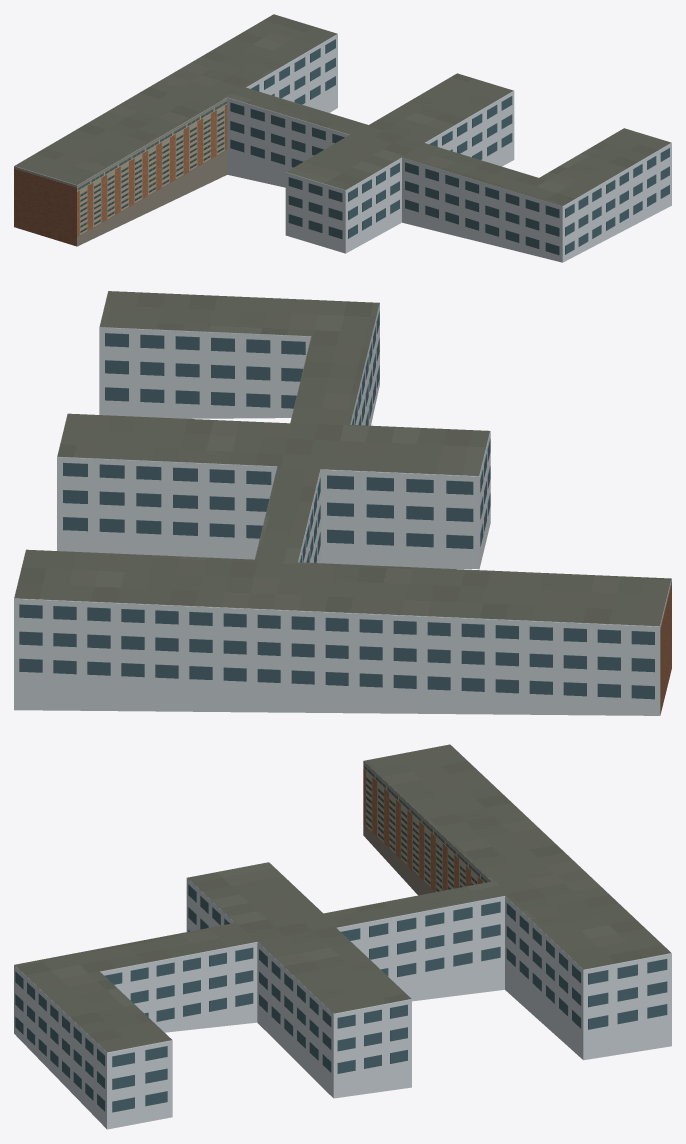
The model's file is intact.glb.
3 renders of one model, top to bottom at view 1: azimuth 30°, elevation 25°; view 2: azimuth 150°, elevation 25°; view 3: azimuth 270°, elevation 25°, orthographic. The views are drawn at different scales.
Parts seen in each view (by area): view 1: SM_cheom_Intact_00, SM_cheom_Intact_01; view 2: SM_cheom_Intact_00, SM_cheom_Intact_01; view 3: SM_cheom_Intact_00, SM_cheom_Intact_01.
Part boxes in pixels (x1,y1,x2,y2): SM_cheom_Intact_00: (14,14,671,262); SM_cheom_Intact_01: (230,39,669,255); SM_cheom_Intact_00: (14,291,671,715); SM_cheom_Intact_01: (19,311,654,699); SM_cheom_Intact_00: (14,744,671,1129); SM_cheom_Intact_01: (15,884,667,1112).
Size of the model in its own units: 2.2 by 0.3141 by 1.98.
Materials: 6 (3 with a texture image).
